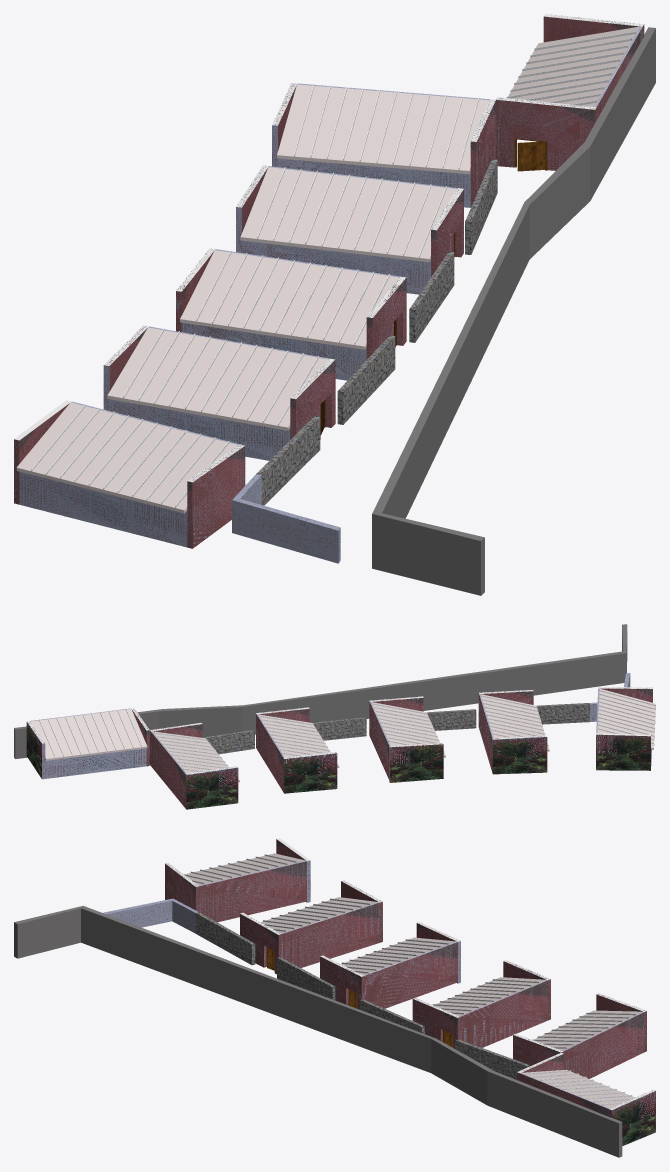
File: Bungalows profesores invitados Tafira.fbx
3 renders of one model, top to bottom at view 1: azimuth 30°, elevation 25°; view 2: azimuth 150°, elevation 25°; view 3: azimuth 270°, elevation 25°, orthographic. The views are drawn at different scales.
Visible parts, largest first — view 1: Group37, Group101, Group83, Group65, Group47, Group4, Group36, Group2, Group20, Group21, Group42, Group3 (+20 smaller); view 2: Group35, Group21, Group37, Group60, Group17, Group78, Group96, Group114, Group4, Group19, Group47, Group65 (+17 smaller); view 3: Group37, Group36, Group5, Group35, Group48, Group66, Group84, Group102, Group42, Group34, Group101, Group38 (+20 smaller).
Part boxes in pixels (x1,y1,x2,y2): Group37: (372,27,655,595); Group101: (277,84,489,174); Group83: (240,167,456,262); Group65: (180,250,399,349); Group47: (107,327,328,430); Group4: (16,402,238,513); Group36: (382,29,655,518); Group2: (19,471,187,547); Group20: (496,97,596,170); Group21: (508,26,639,106); Group42: (232,474,340,563); Group3: (187,444,245,548); Group35: (14,653,626,758); Group21: (30,709,147,760); Group37: (14,624,627,758); Group60: (492,735,547,774); Group17: (596,733,650,770); Group78: (389,743,443,782); Group96: (283,752,337,793); Group114: (185,766,238,809); Group4: (597,689,655,749); Group19: (45,748,146,778); Group47: (480,694,549,751); Group65: (371,702,445,757); Group37: (14,905,622,1157); Group36: (81,908,618,1157); Group5: (199,860,306,922); Group35: (491,1072,620,1156); Group48: (281,902,379,967); Group66: (364,941,457,1008); Group84: (459,980,547,1047); Group102: (563,1011,644,1078); Group42: (102,898,198,933); Group34: (609,1089,655,1145); Group101: (534,1010,642,1050); Group38: (195,912,255,965).
Size of the model in its own units: 54.59 by 3.96 by 52.91.
